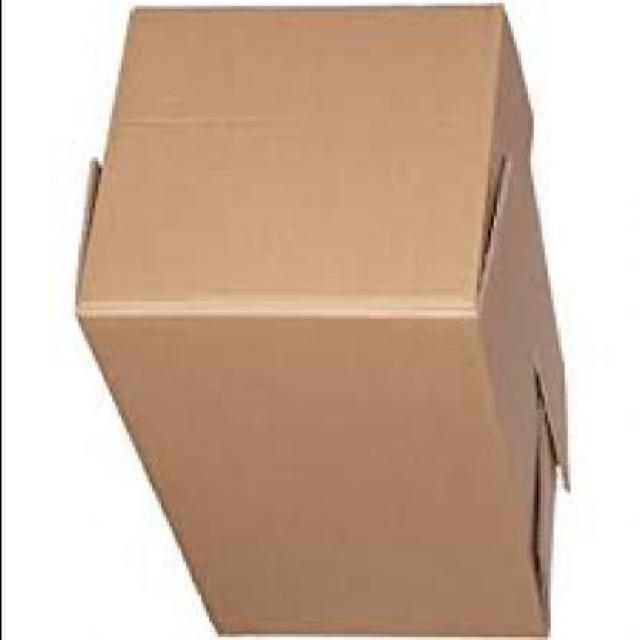box: (72, 0, 608, 640)
